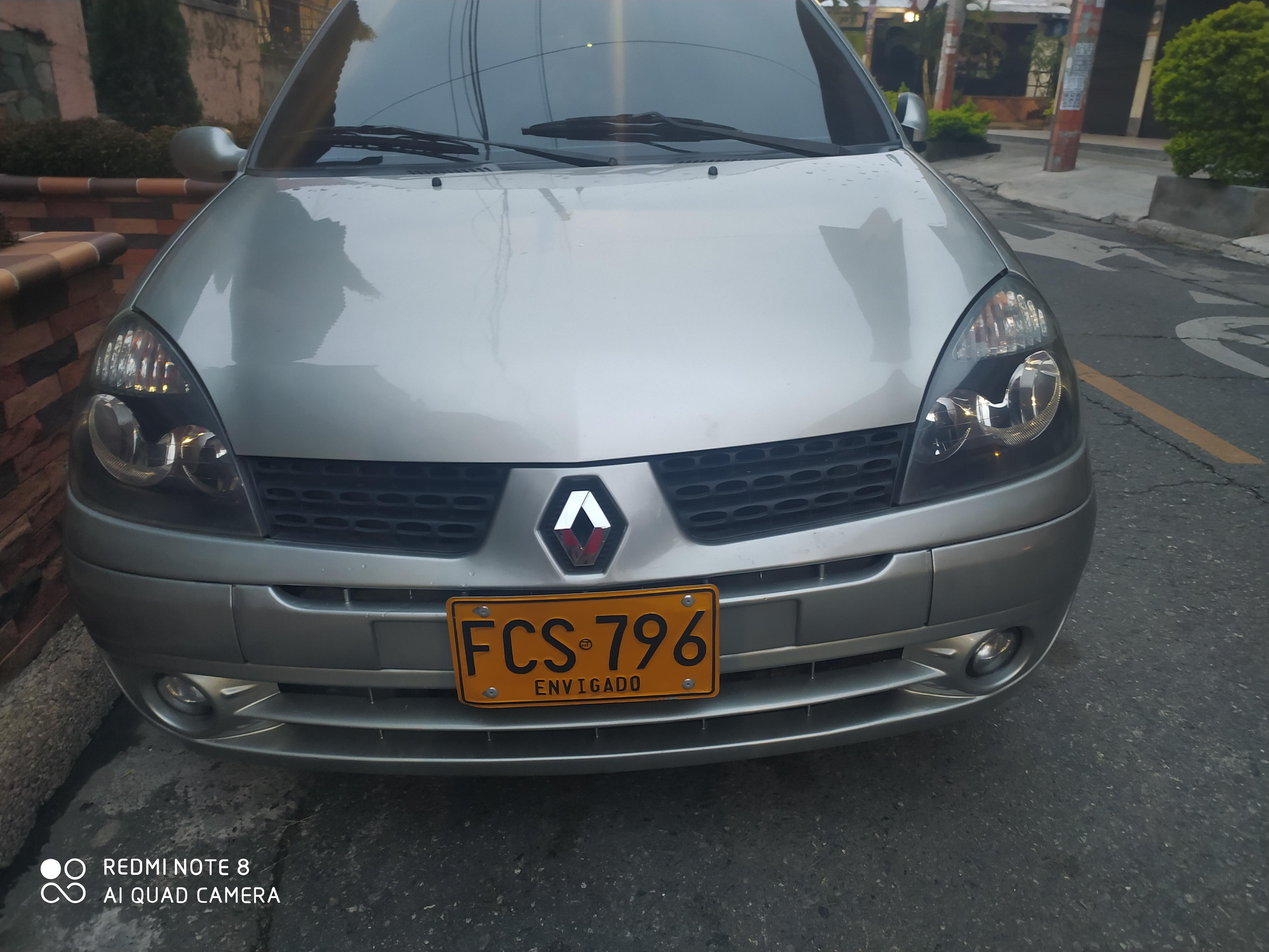placa: (429, 576, 729, 713)
